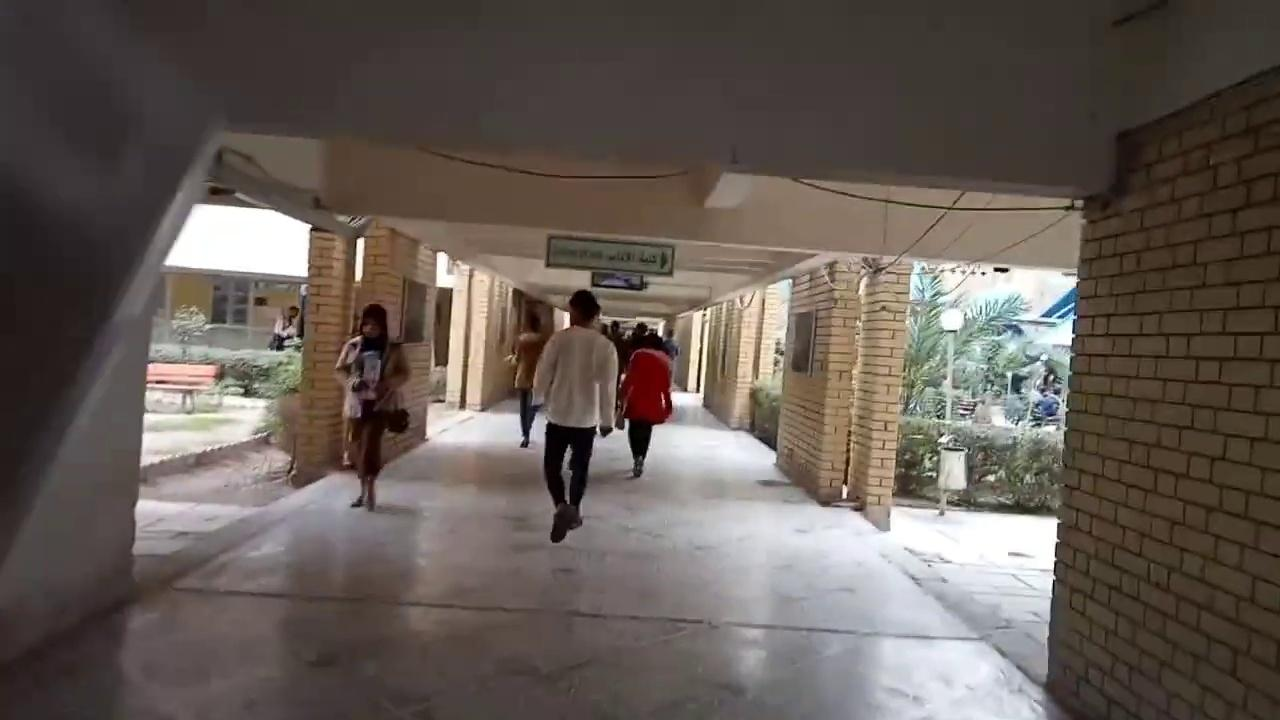person: (529, 289, 618, 543), (333, 302, 411, 511), (615, 332, 673, 478), (510, 312, 546, 448), (333, 314, 362, 469), (268, 305, 300, 351)
tree: (894, 264, 1072, 514), (900, 267, 1037, 418), (143, 302, 224, 413), (953, 291, 1031, 399), (900, 269, 949, 415)
